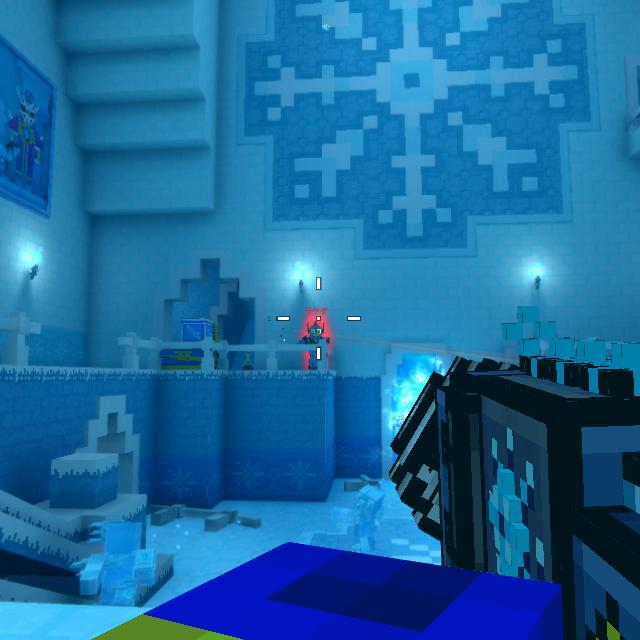Enemy: (300, 322, 331, 371)
